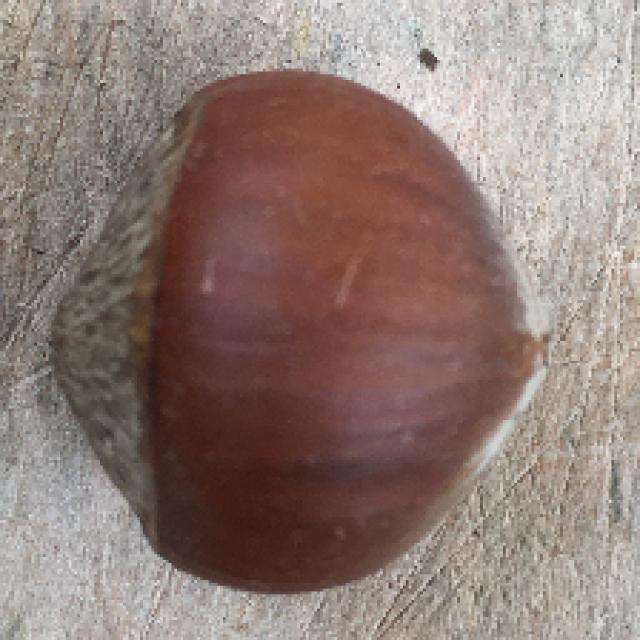damagedHazelnut: (57, 69, 541, 586)
